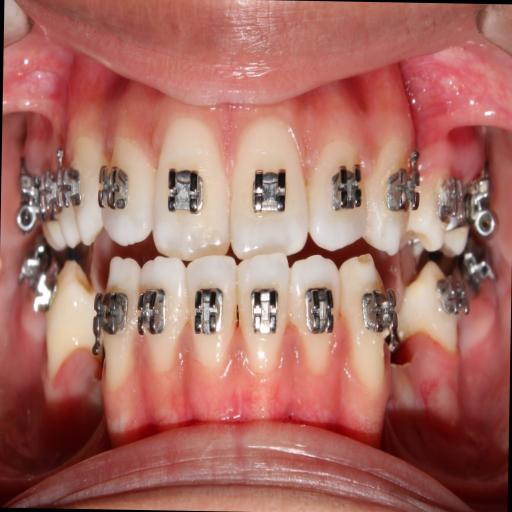correct_brace: (358, 284, 404, 361), (384, 142, 424, 222), (248, 162, 292, 220), (164, 161, 206, 220), (327, 157, 365, 219), (134, 282, 170, 344), (302, 282, 337, 344), (191, 282, 227, 342), (96, 158, 132, 217), (248, 284, 281, 340)
incorrect_brace: (94, 124, 158, 250), (308, 130, 368, 255), (289, 252, 343, 376), (136, 250, 188, 376)
